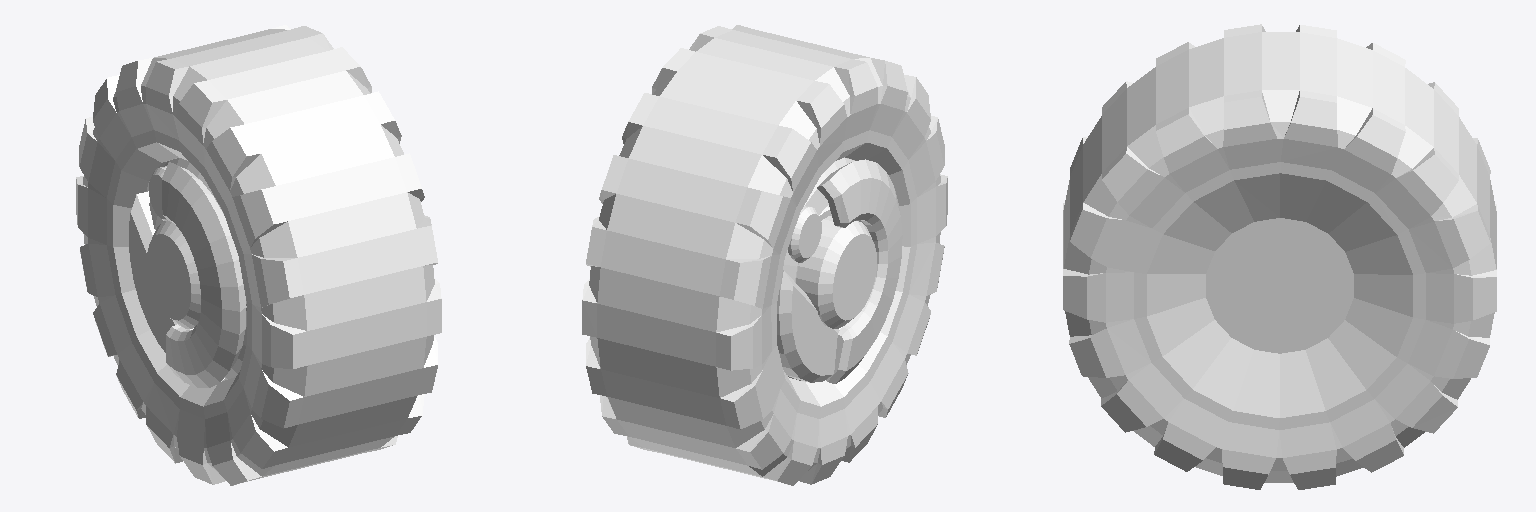
The model's file is warthogTire.obj.
3 renders of one model, left to right at view 1: azimuth 30°, elevation 25°; view 2: azimuth 150°, elevation 25°; view 3: azimuth 270°, elevation 25°, orthographic.
Visible parts, largest first — view 1: Tyre.003_Mesh.008, HubCap.003_Mesh.007; view 2: Tyre.003_Mesh.008, HubCap.003_Mesh.007; view 3: Tyre.003_Mesh.008.
Part boxes in pixels (x1,y1,x2,y2): Tyre.003_Mesh.008: (76, 25, 441, 485); HubCap.003_Mesh.007: (129, 158, 246, 387); Tyre.003_Mesh.008: (582, 25, 947, 485); HubCap.003_Mesh.007: (777, 158, 902, 383); Tyre.003_Mesh.008: (1063, 24, 1496, 489).
Bounding box in the file's own units: 0.6983 × 1.5 × 1.5.